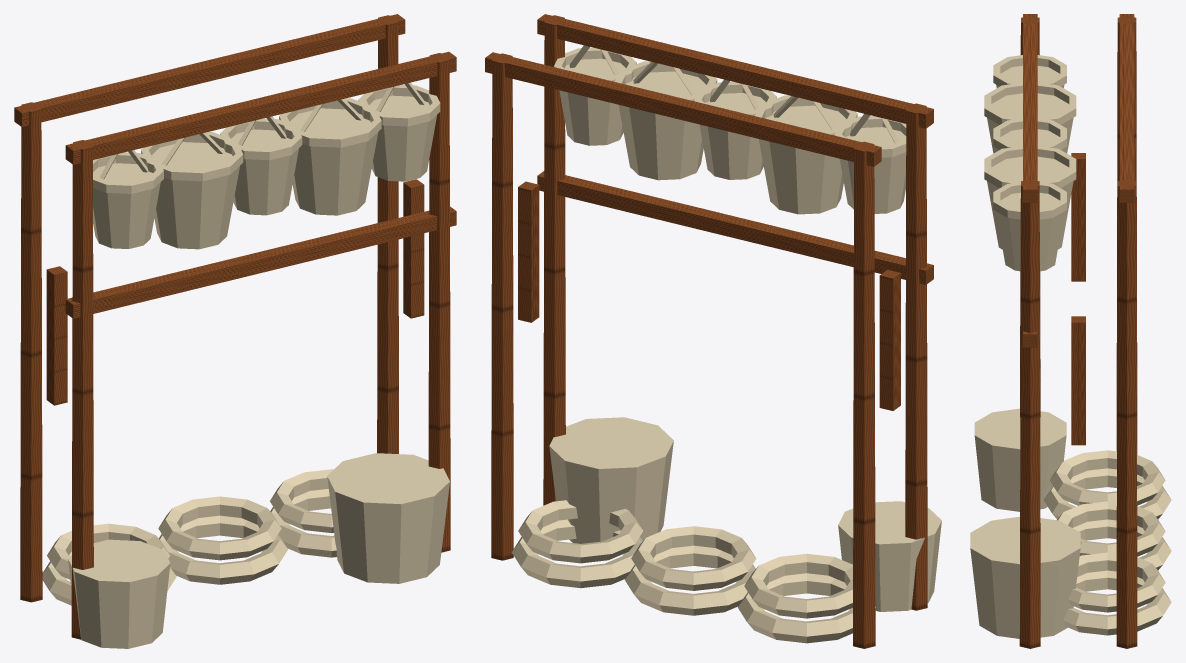
The model's file is indian-bazaar-street-and-temple-rope-and-basket-rack-b8c48ed3__36558.glb.
3 renders of one model, left to right at view 1: azimuth 30°, elevation 25°; view 2: azimuth 150°, elevation 25°; view 3: azimuth 270°, elevation 25°, orthographic. The views are drawn at different scales.
Parts seen in each view (by area): view 1: rope-and-basket-rack-jute, rope-and-basket-rack-timber; view 2: rope-and-basket-rack-timber, rope-and-basket-rack-jute; view 3: rope-and-basket-rack-jute, rope-and-basket-rack-timber.
Boxes of the visible parts, bbox=[...] form: rope-and-basket-rack-jute: bbox=[42, 82, 449, 648]; rope-and-basket-rack-timber: bbox=[14, 14, 456, 639]; rope-and-basket-rack-timber: bbox=[485, 14, 933, 648]; rope-and-basket-rack-jute: bbox=[511, 45, 941, 643]; rope-and-basket-rack-jute: bbox=[970, 55, 1171, 638]; rope-and-basket-rack-timber: bbox=[1019, 14, 1137, 648].
Size of the model in its own units: 1.72 by 2.1 by 0.8332.
Materials: 2 (1 with a texture image).
